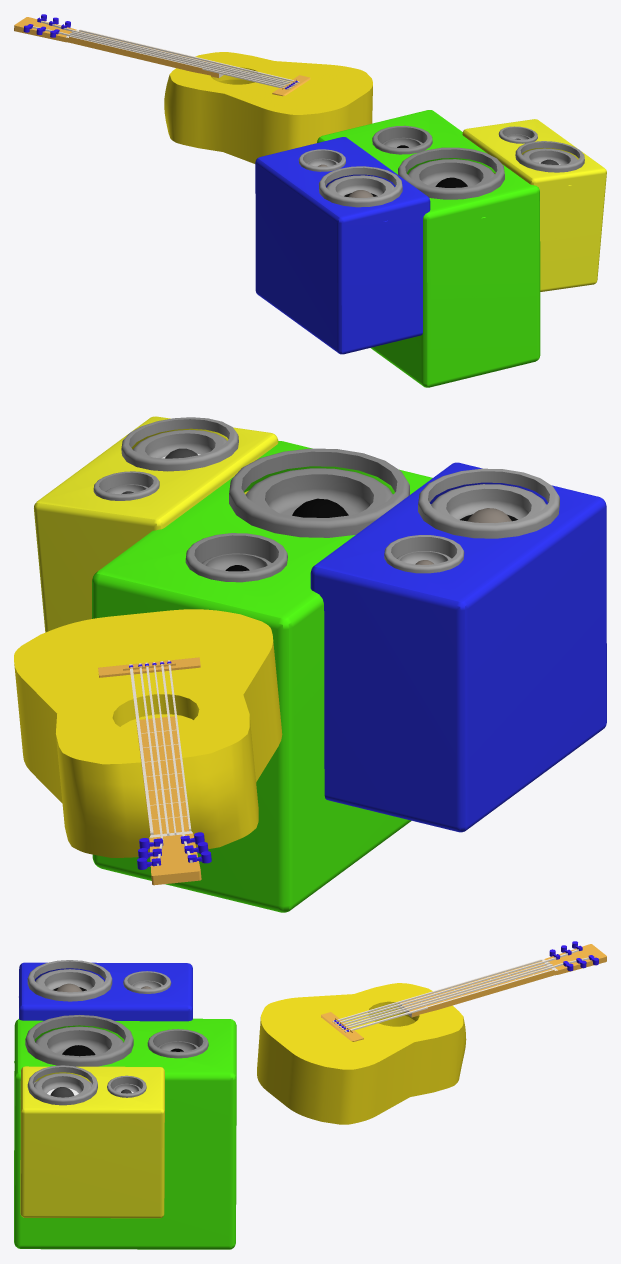
The model's file is guiter.glb.
3 views of the same model, one above another, from view 1: azimuth 30°, elevation 25°; view 2: azimuth 150°, elevation 25°; view 3: azimuth 270°, elevation 25° (orthographic). The views are drawn at different scales.
Visible parts, largest first — view 1: pSphere14.002, pSphere14.001, pCube128, pSphere14; view 2: pSphere14.001, pSphere14.002, pCube128, pSphere14; view 3: pSphere14.002, pCube128, pSphere14, pSphere14.001.
Boxes of the visible parts, <box> form: pSphere14.002: <box>317,110,540,387</box>; pSphere14.001: <box>255,137,430,354</box>; pCube128: <box>14,14,372,163</box>; pSphere14: <box>462,119,606,291</box>; pSphere14.001: <box>310,462,606,832</box>; pSphere14.002: <box>92,441,432,912</box>; pCube128: <box>14,609,282,885</box>; pSphere14: <box>34,416,278,632</box>; pSphere14.002: <box>14,1015,236,1249</box>; pCube128: <box>257,941,606,1124</box>; pSphere14: <box>20,1065,164,1218</box>; pSphere14.001: <box>19,960,192,1021</box>.
Bounding box in the file's own units: 1.83 × 1.11 × 2.98.
